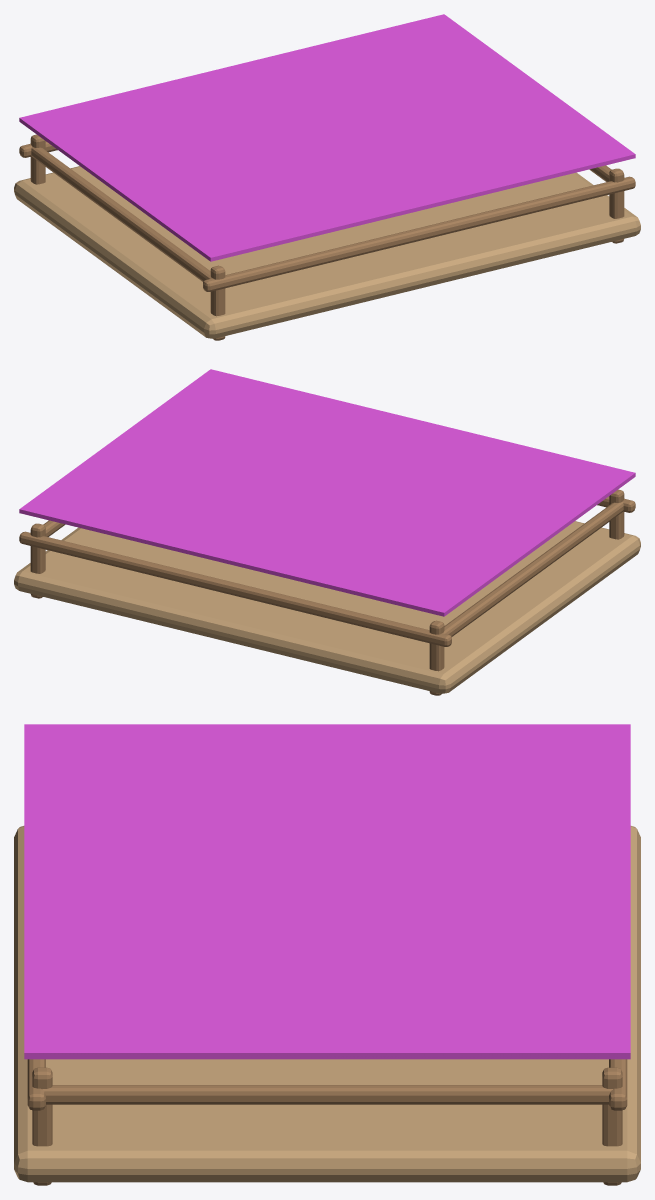
File: lookout_deck_lod1_v1.glb
The picture shows the model from 3 angles, top to bottom: view 1: azimuth 30°, elevation 25°; view 2: azimuth 150°, elevation 25°; view 3: azimuth 270°, elevation 25°; orthographic projection. The views are drawn at different scales.
Parts seen in each view (by area): view 1: NAV_MASK_LOOKOUT_DECK, LOD1_LOOKOUT_DECK_Deck, LOD1_LOOKOUT_DECK_RailY, LOD1_LOOKOUT_DECK_RailX, LOD1_LOOKOUT_DECK_Post.002, LOD1_LOOKOUT_DECK_Post, LOD1_LOOKOUT_DECK_Post.001; view 2: NAV_MASK_LOOKOUT_DECK, LOD1_LOOKOUT_DECK_Deck, LOD1_LOOKOUT_DECK_RailY.001, LOD1_LOOKOUT_DECK_RailX, LOD1_LOOKOUT_DECK_Post.003, LOD1_LOOKOUT_DECK_Post.001, LOD1_LOOKOUT_DECK_Post; view 3: NAV_MASK_LOOKOUT_DECK, LOD1_LOOKOUT_DECK_Deck, LOD1_LOOKOUT_DECK_RailX.001, LOD1_LOOKOUT_DECK_Post.002, LOD1_LOOKOUT_DECK_Post.003, LOD1_LOOKOUT_DECK_RailY, LOD1_LOOKOUT_DECK_RailY.001.
Part boxes in pixels (left/top/right/bottom): NAV_MASK_LOOKOUT_DECK: left=19, top=14, right=635, bottom=261; LOD1_LOOKOUT_DECK_Deck: left=14, top=166, right=640, bottom=338; LOD1_LOOKOUT_DECK_RailY: left=203, top=176, right=635, bottom=291; LOD1_LOOKOUT_DECK_RailX: left=31, top=146, right=212, bottom=281; LOD1_LOOKOUT_DECK_Post.002: left=609, top=168, right=624, bottom=243; LOD1_LOOKOUT_DECK_Post: left=210, top=265, right=225, bottom=340; LOD1_LOOKOUT_DECK_Post.001: left=30, top=134, right=45, bottom=184; NAV_MASK_LOOKOUT_DECK: left=19, top=369, right=635, bottom=616; LOD1_LOOKOUT_DECK_Deck: left=14, top=521, right=640, bottom=693; LOD1_LOOKOUT_DECK_RailY.001: left=19, top=531, right=451, bottom=646; LOD1_LOOKOUT_DECK_RailX: left=442, top=501, right=623, bottom=636; LOD1_LOOKOUT_DECK_Post.003: left=30, top=523, right=45, bottom=598; LOD1_LOOKOUT_DECK_Post.001: left=429, top=620, right=444, bottom=695; LOD1_LOOKOUT_DECK_Post: left=609, top=489, right=624, bottom=539; NAV_MASK_LOOKOUT_DECK: left=24, top=724, right=630, bottom=1059; LOD1_LOOKOUT_DECK_Deck: left=14, top=826, right=640, bottom=1182; LOD1_LOOKOUT_DECK_RailX.001: left=42, top=1085, right=612, bottom=1104; LOD1_LOOKOUT_DECK_Post.002: left=32, top=1067, right=52, bottom=1185; LOD1_LOOKOUT_DECK_Post.003: left=602, top=1067, right=622, bottom=1185; LOD1_LOOKOUT_DECK_RailY: left=27, top=1059, right=45, bottom=1110; LOD1_LOOKOUT_DECK_RailY.001: left=609, top=1059, right=627, bottom=1110.
Size of what is drawn, in the model's own units: 7 by 1.36 by 5.5.
